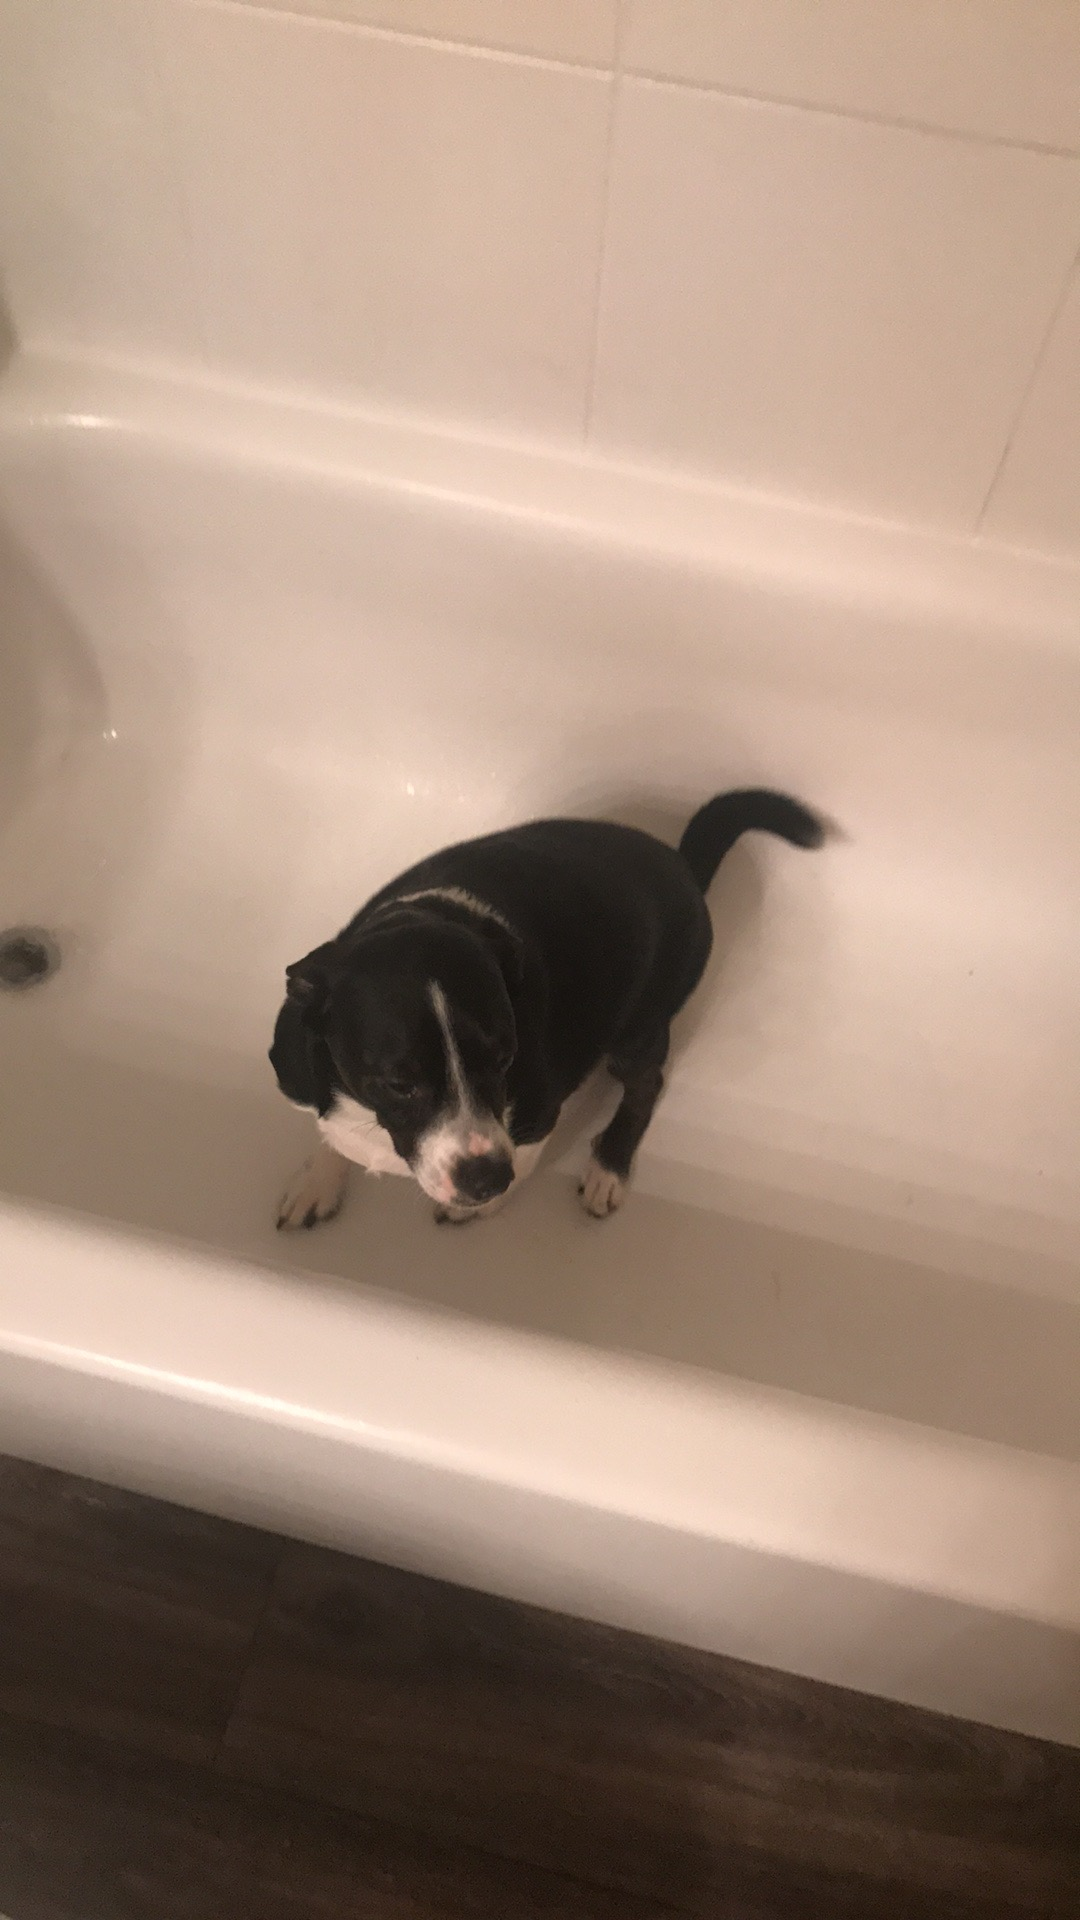Harley: (247, 764, 827, 1276)
